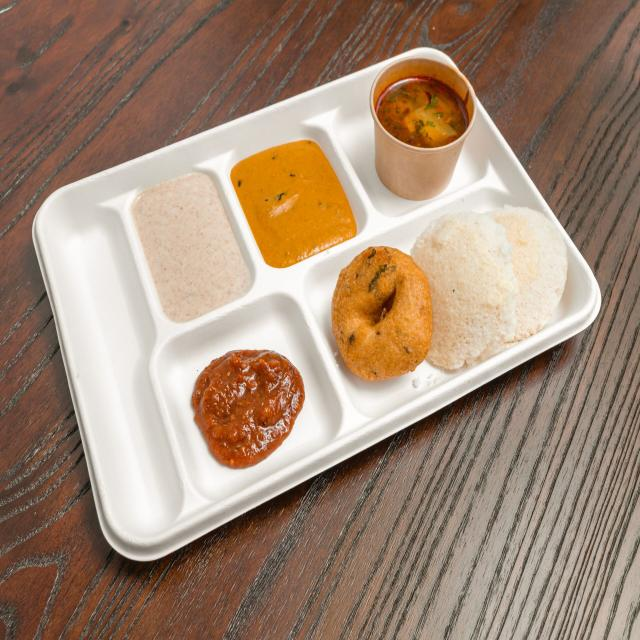IDLI: (410, 212, 518, 369), (488, 206, 568, 342)
MEDU VADA: (332, 247, 432, 380)
